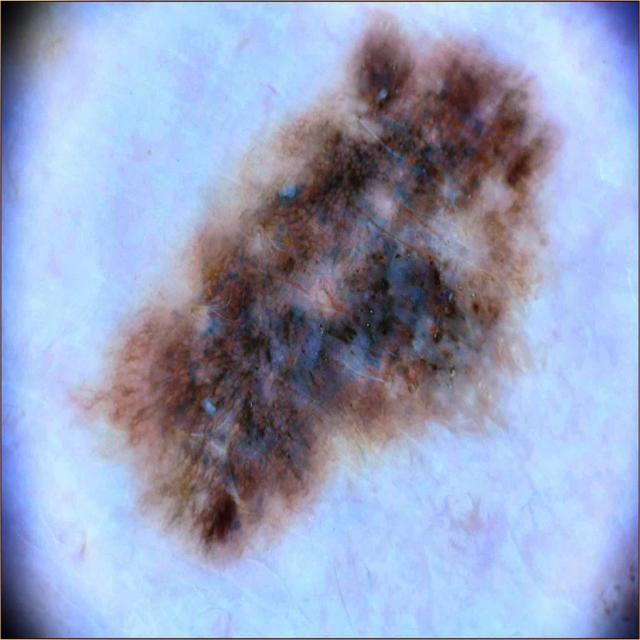Melanocytic-Nevi-NV-: (92, 20, 555, 552)
